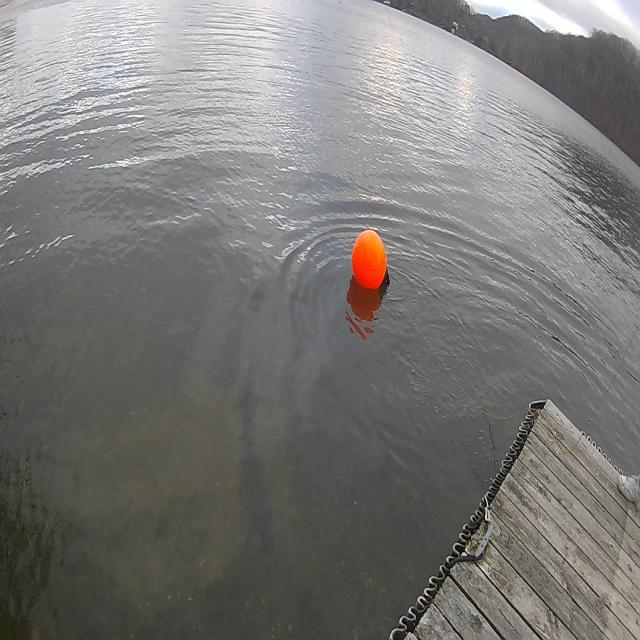Buoy: (351, 224, 394, 298)
